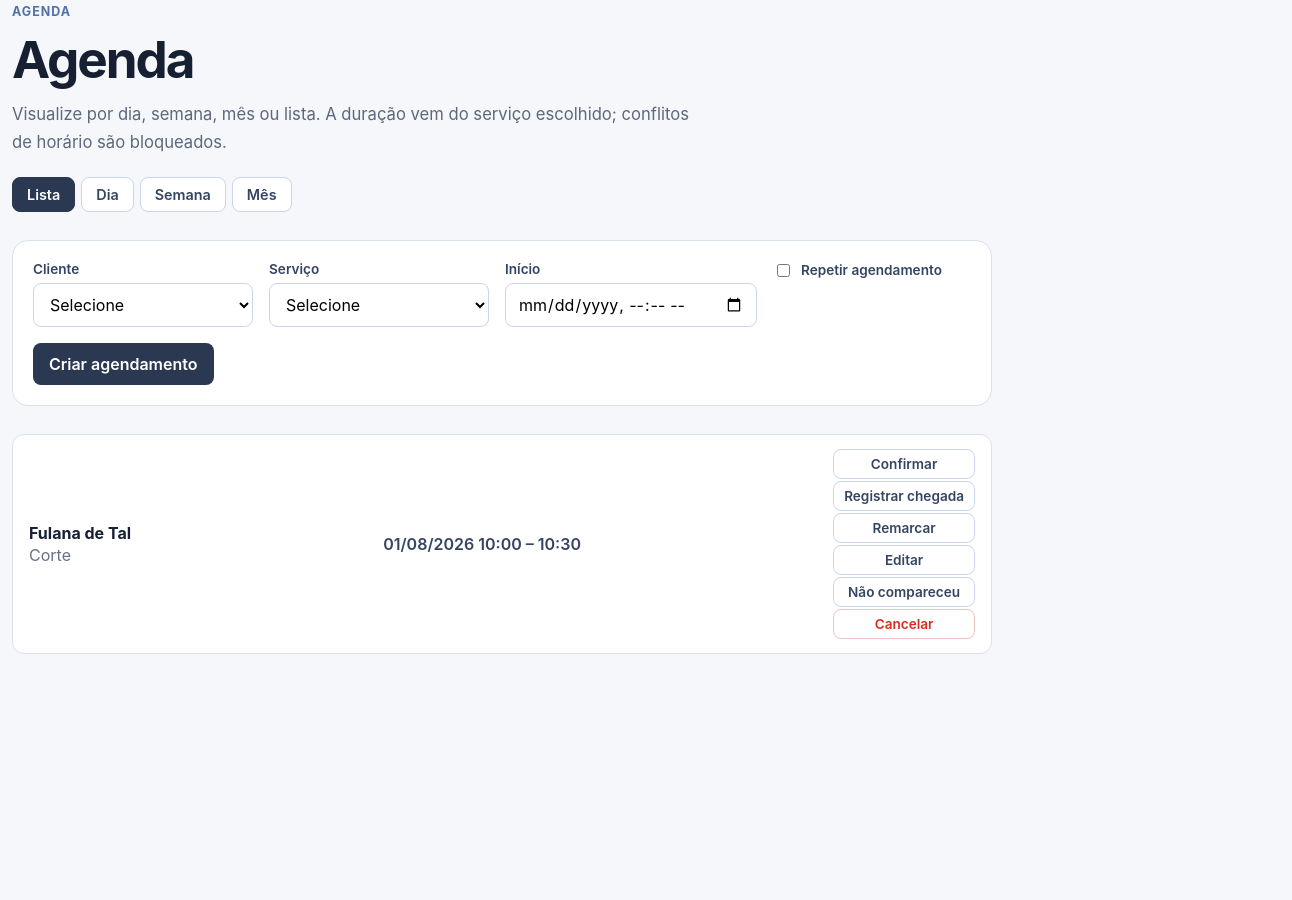
Scenario: AgendaPageComponent › shows an error when editing an appointment fails
Click the button with class "link-button" showing "Editar" at (904, 560), box [833,545,975,575]
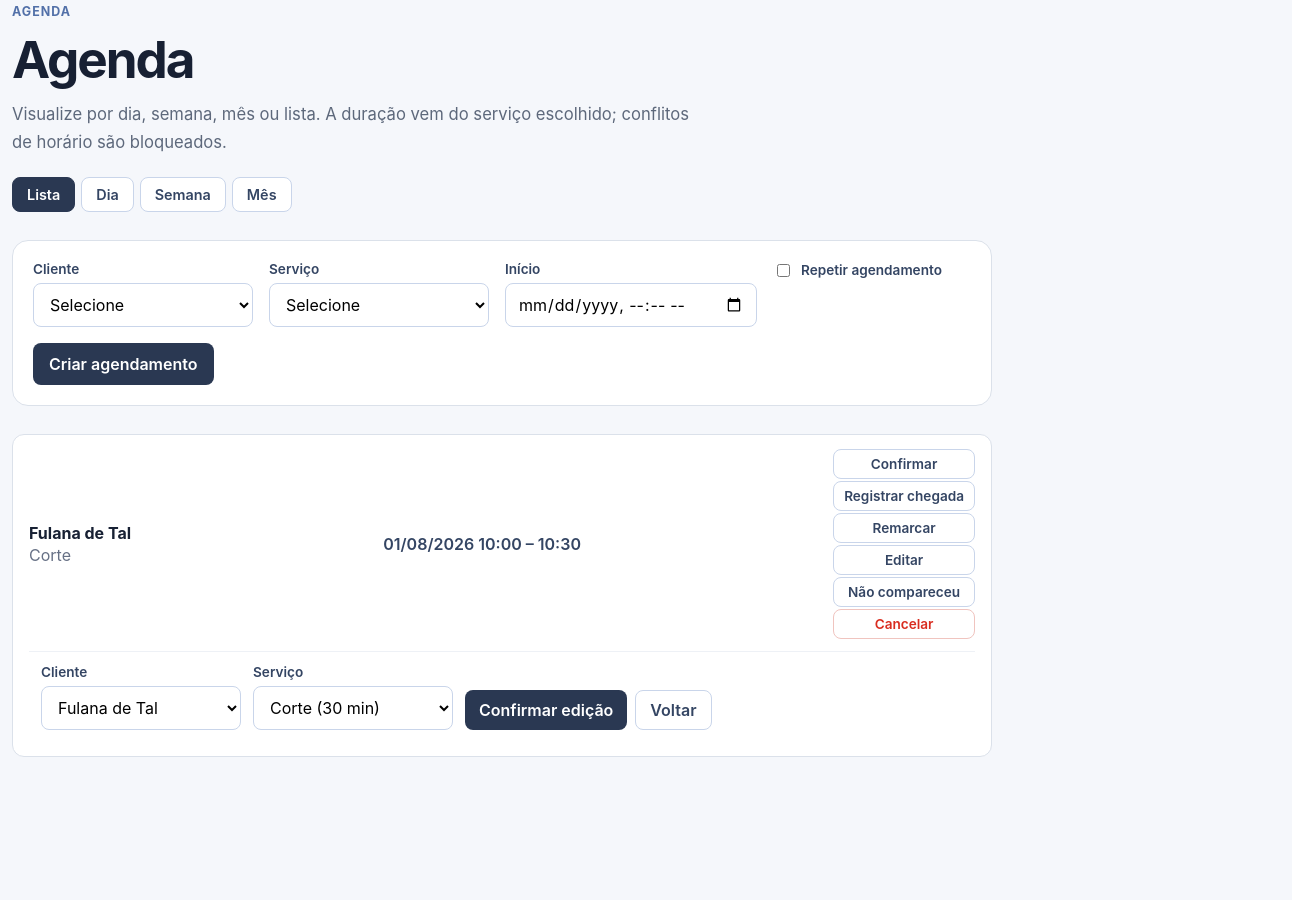
Submit the form with class "row-form", box [29,651,975,742]
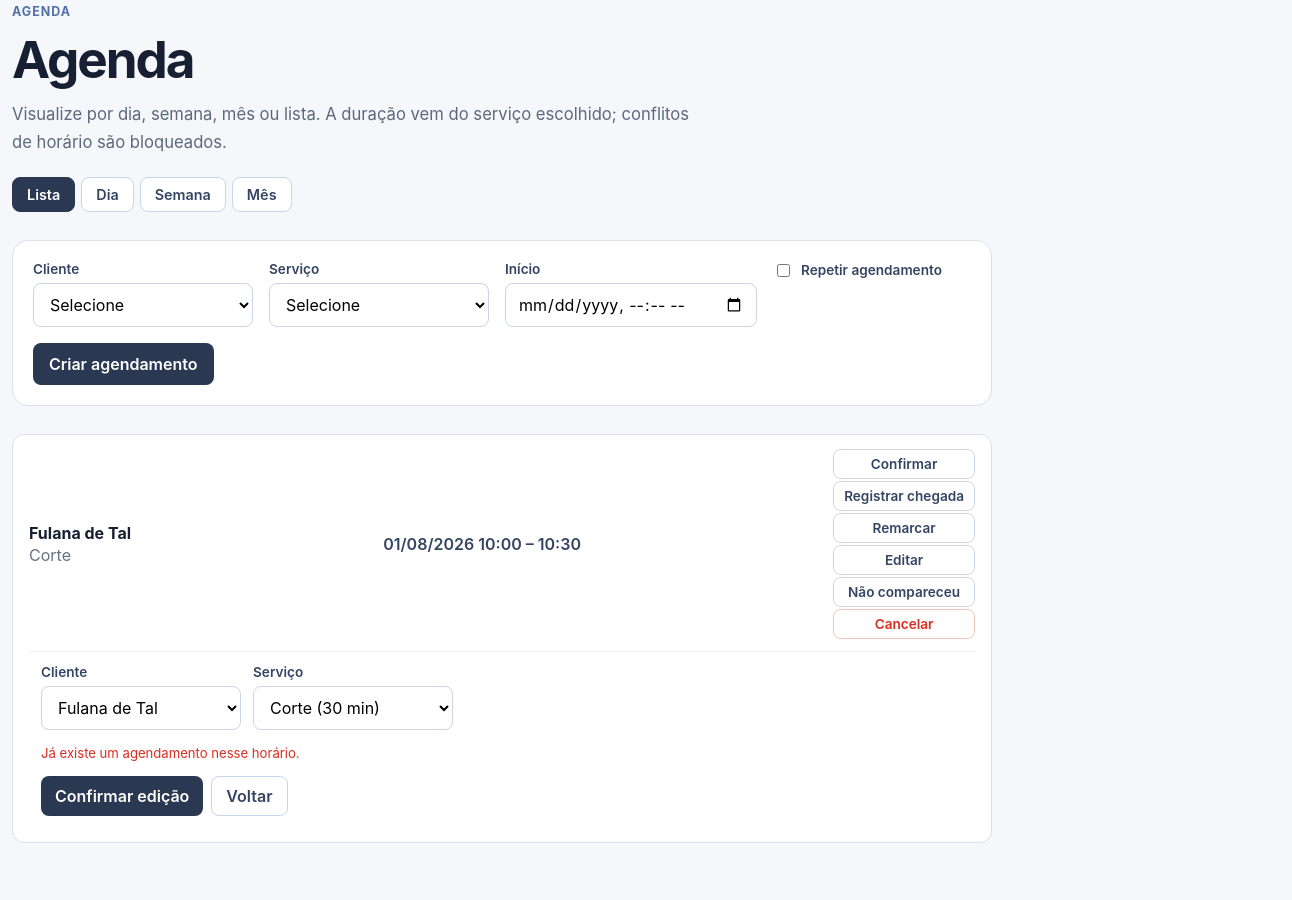
Now the text "Já existe um agendamento nesse horário." is shown, box [41,745,300,761]
